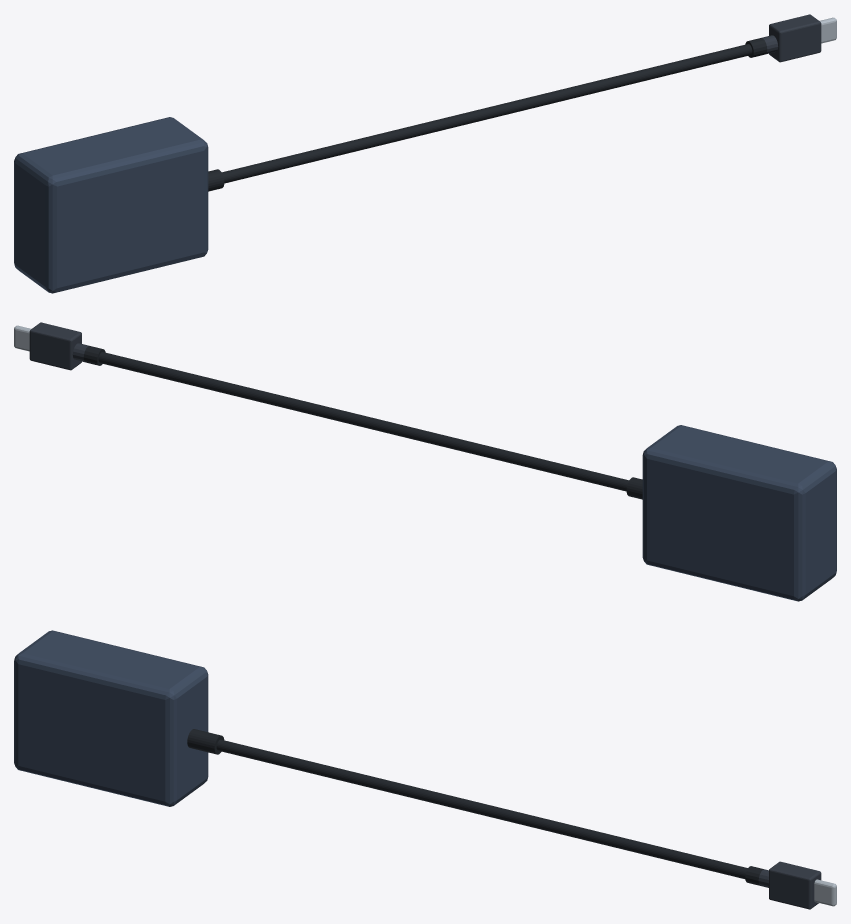
The picture shows the model from 3 angles, top to bottom: view 1: azimuth 30°, elevation 25°; view 2: azimuth 150°, elevation 25°; view 3: azimuth 330°, elevation 25°; orthographic projection.
Visible parts, largest first — view 1: geometry_0; view 2: geometry_0; view 3: geometry_0.
Part boxes in pixels (box(x1,y1,x2,y2)): geometry_0: box(14, 14, 836, 293); geometry_0: box(14, 322, 836, 601); geometry_0: box(14, 630, 836, 909).
Bounding box in the file's own units: 0.3235 × 0.045 × 0.027.
Materials: 1 (1 with a texture image).
